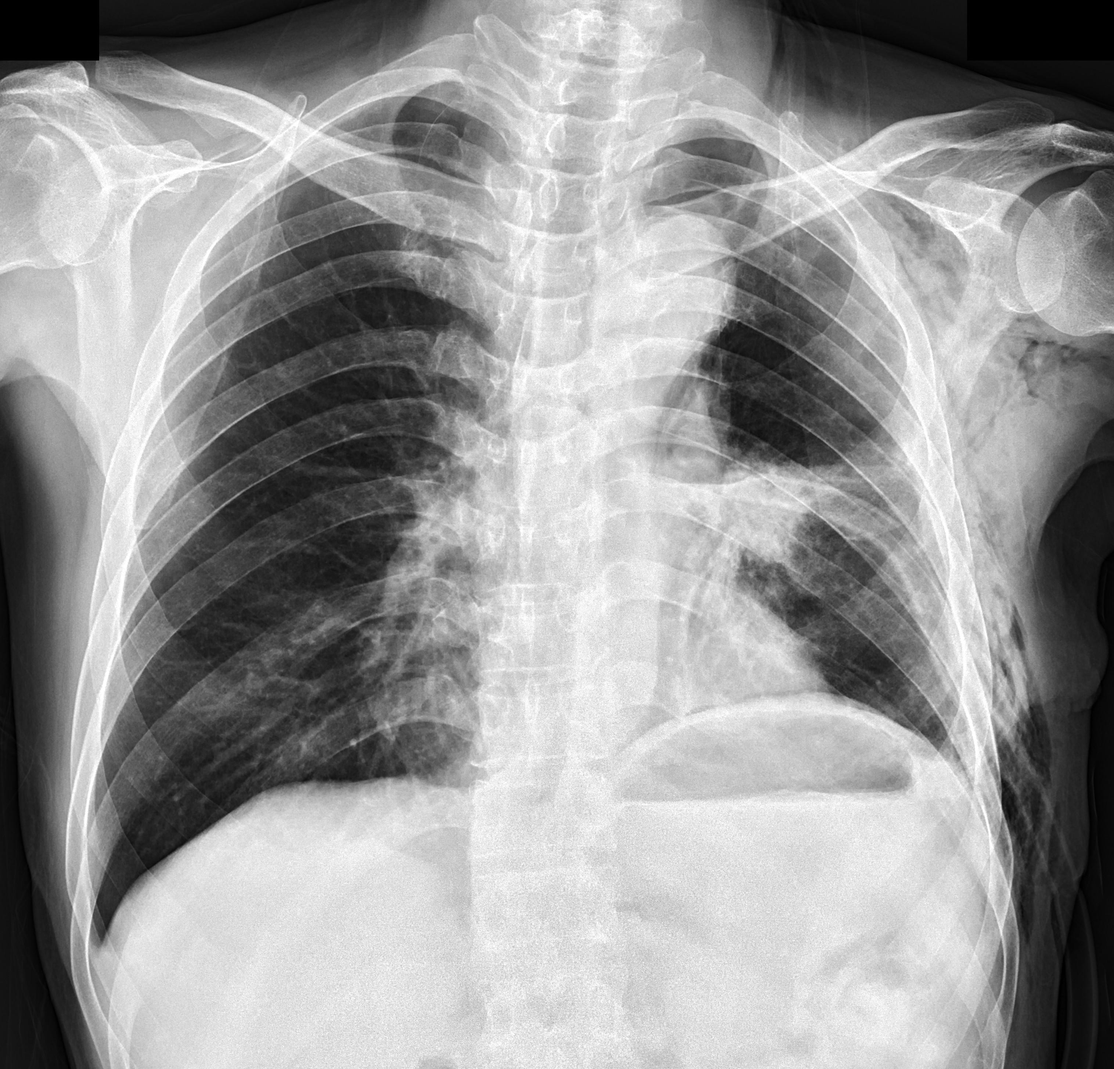Aortic enlargement: (597, 208, 740, 359)
Pleural thickening: (78, 911, 123, 981)
Pulmonary fibrosis: (673, 392, 933, 703)
